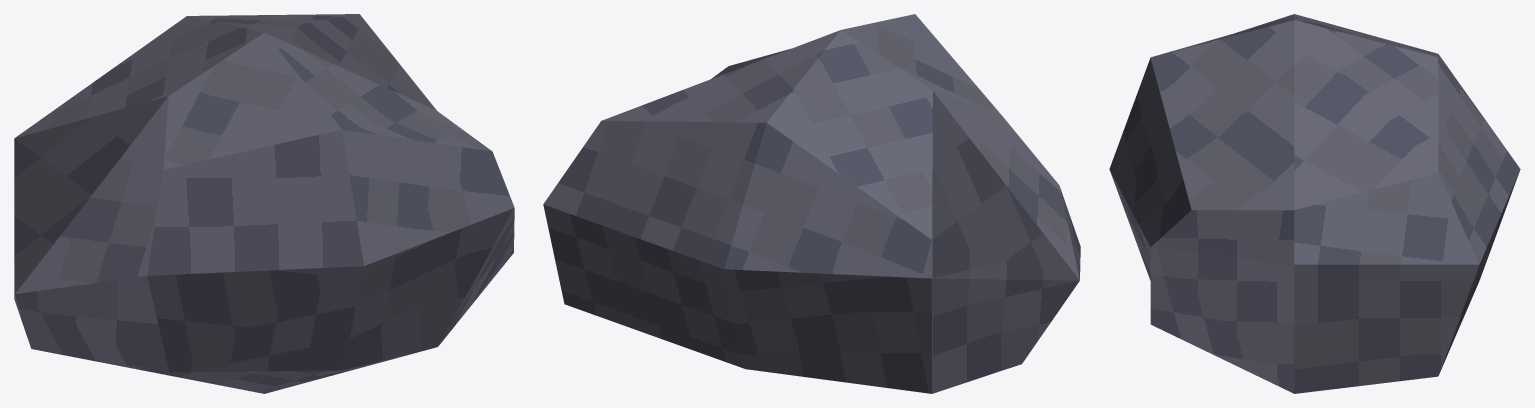
The model's file is lowpolyrock.glb.
3 views of the same model, side by side, from view 1: azimuth 30°, elevation 25°; view 2: azimuth 150°, elevation 25°; view 3: azimuth 270°, elevation 25° (orthographic). The views are drawn at different scales.
Visible parts, largest first — view 1: cube_0; view 2: cube_0; view 3: cube_0.
Boxes of the visible parts, box(x1,y1,x2,y2) form: cube_0: box(14, 14, 514, 393); cube_0: box(543, 14, 1080, 393); cube_0: box(1109, 14, 1520, 393).
Bounding box in the file's own units: 0.8125 × 0.5625 × 0.625.
1 material, 1 textured.
